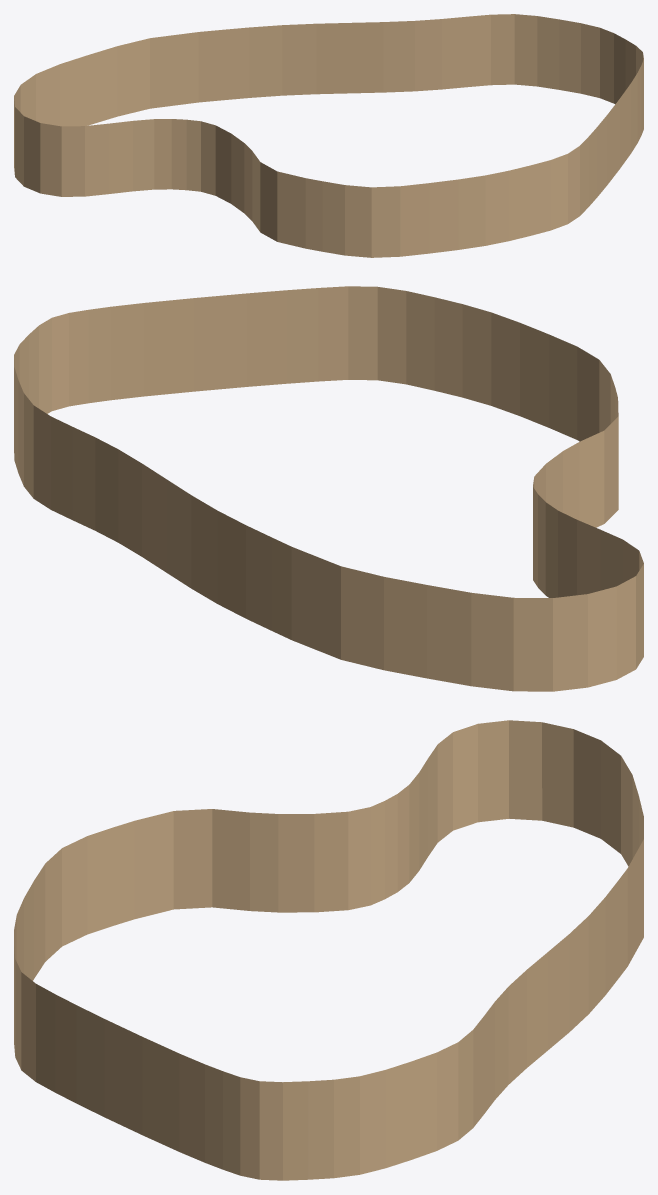
Rendered from WallIsland4.fbx.
3 views of the same model, one above another, from view 1: azimuth 30°, elevation 25°; view 2: azimuth 150°, elevation 25°; view 3: azimuth 270°, elevation 25° (orthographic). The views are drawn at different scales.
Visible parts, largest first — view 1: Island; view 2: Island; view 3: Island.
Part boxes in pixels (x1,y1,x2,y2): Island: (14,14,643,257); Island: (14,286,643,691); Island: (14,720,643,1180).
Size of the model in its own units: 266 by 33.82 by 196.
